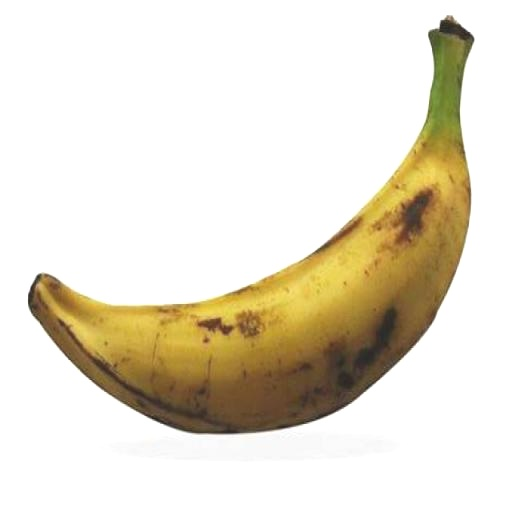fruit: (28, 18, 472, 431)
